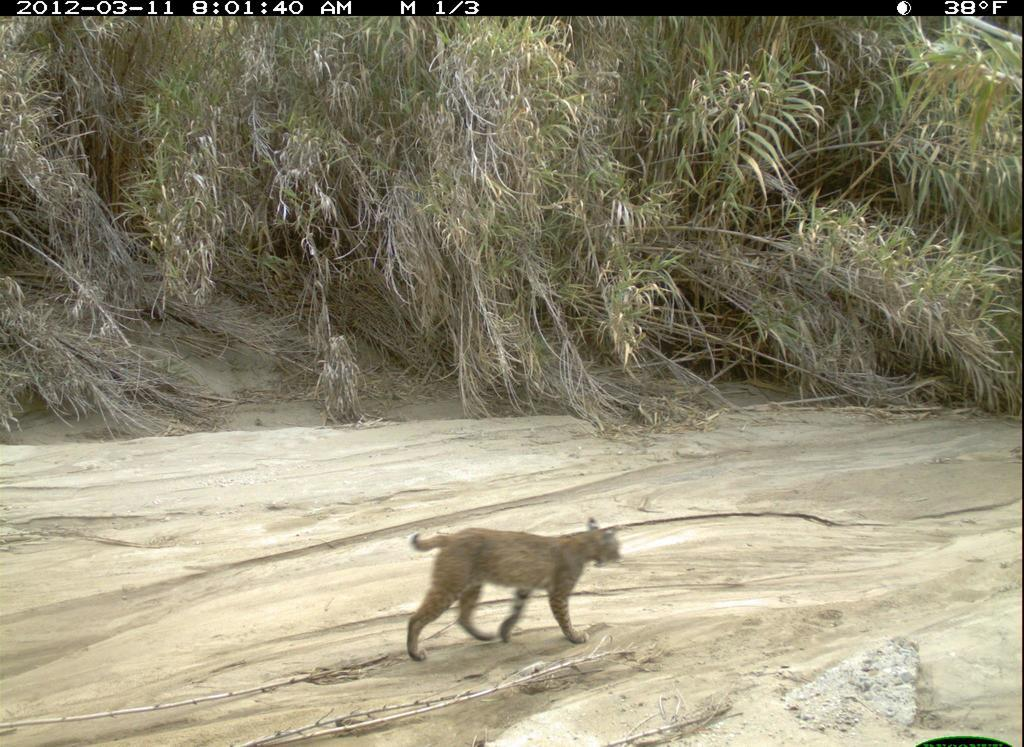bobcat: (368, 481, 644, 674)
